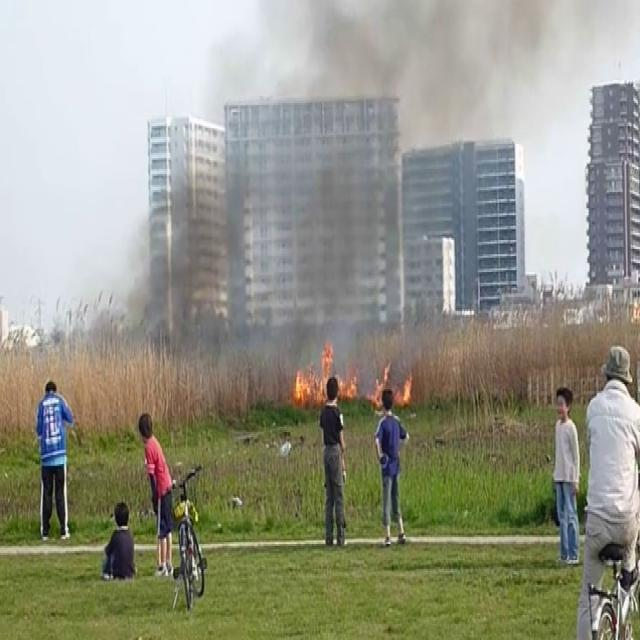Fire: (290, 332, 360, 409)
Smoke: (134, 0, 579, 357)
